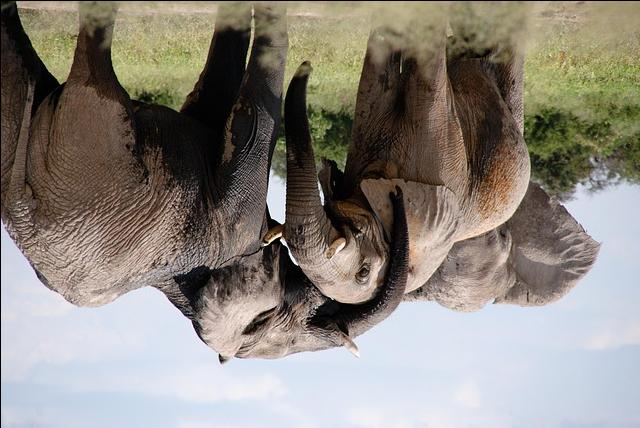Non_Gorille: (2, 5, 574, 407)
